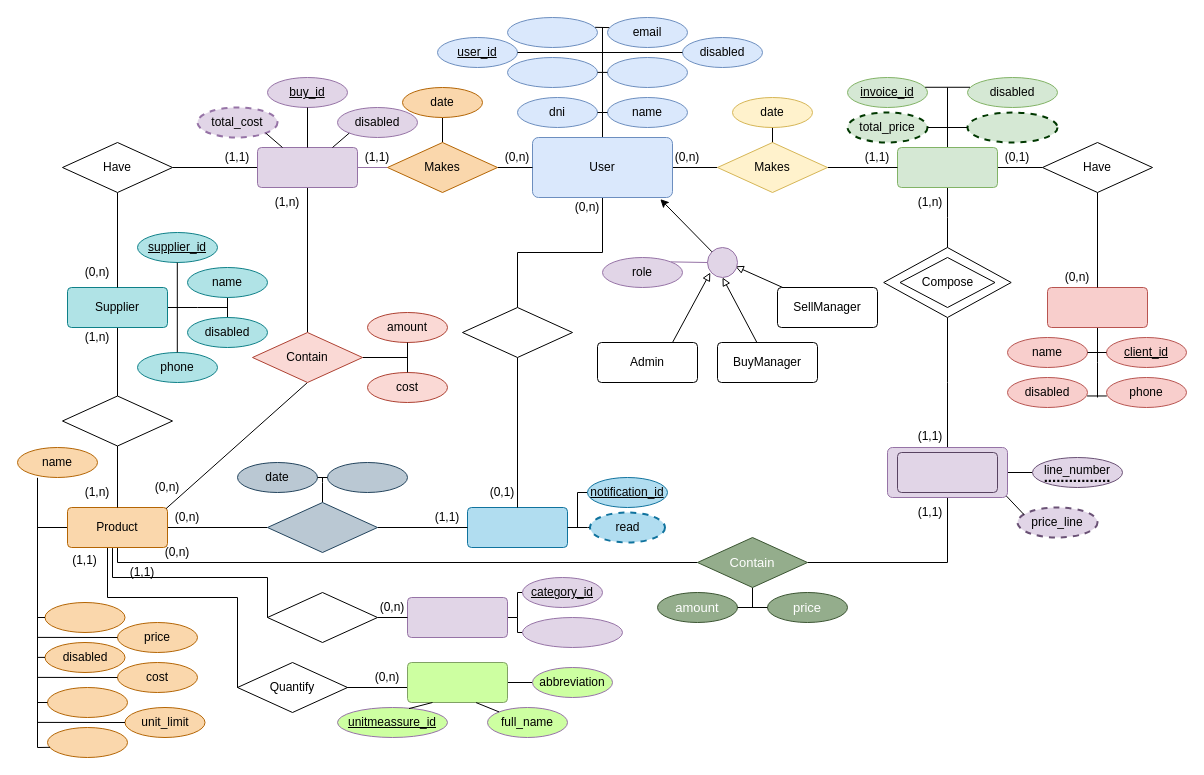
Some shapes in this 1204 by 775 pixel diagram are drawn without their labels. Each missing label, with the centre of its shape:
"Attend" belongs at pixel 517 332.
"Buy" belongs at pixel 307 167.
"category_name" belongs at pixel 572 632.
"Classify" belongs at pixel 322 617.
"Client" belongs at pixel 1097 307.
"description" belongs at pixel 87 742.
"Generate" belongs at pixel 322 527.
"Invoice" belongs at pixel 947 167.
"invoice_code" belongs at pixel 1012 127.
"InvoiceLine" belongs at pixel 947 472.
"message" belongs at pixel 367 477.
"Notification" belongs at pixel 517 527.
"password" belongs at pixel 552 32.
"product_id" belongs at pixel 84 617.
"ProductCategory" belongs at pixel 457 617.
"Provide" belongs at pixel 117 420.
"stock" belongs at pixel 87 702.
"surname" belongs at pixel 647 72.
"UnitMeasure" belongs at pixel 457 682.
"username" belongs at pixel 552 72.
